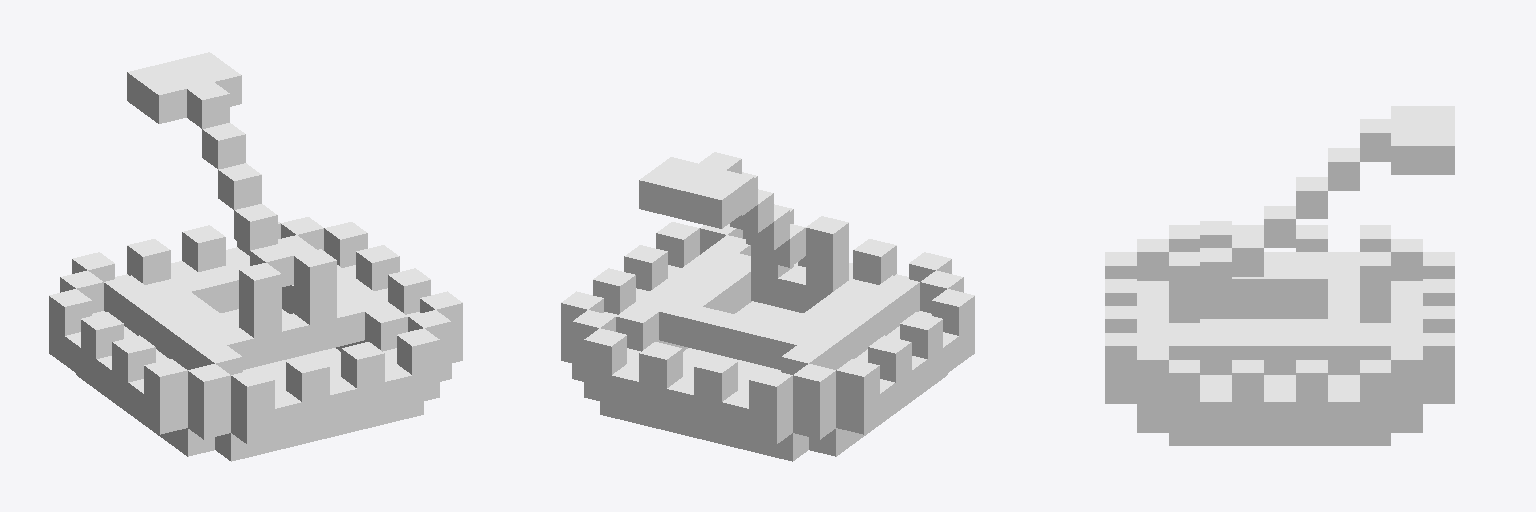
File: WallCurved_TallUpper.obj
3 views of the same model, side by side, from view 1: azimuth 30°, elevation 25°; view 2: azimuth 150°, elevation 25°; view 3: azimuth 270°, elevation 25° (orthographic).
Parts seen in each view (by area): view 1: WallCurved_TallUpper; view 2: WallCurved_TallUpper; view 3: WallCurved_TallUpper.
Boxes of the visible parts, box(x1,y1,x2,y2) form: WallCurved_TallUpper: box(49, 52, 462, 461); WallCurved_TallUpper: box(561, 152, 974, 461); WallCurved_TallUpper: box(1105, 106, 1454, 445).
Bounding box in the file's own units: 11 × 9 × 11.